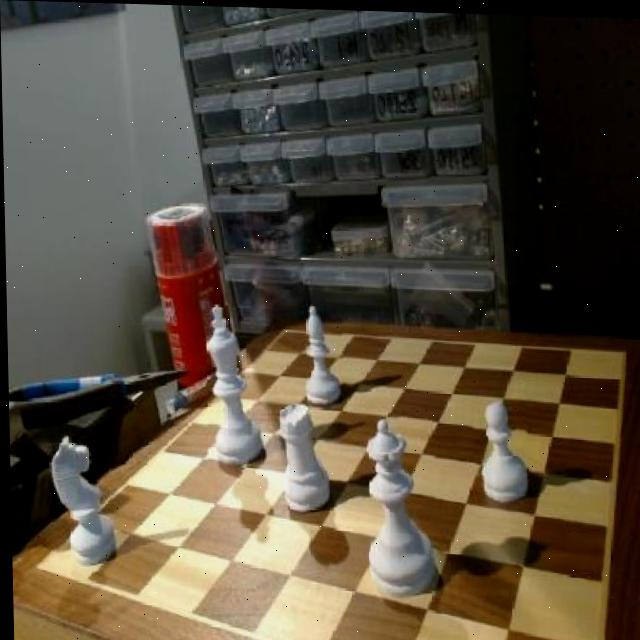black-rook: (299, 304, 341, 407)
white-bishop: (205, 304, 264, 471)
white-king: (49, 435, 113, 573)
white-knight: (471, 400, 529, 502)
white-pawn: (361, 413, 437, 600)
white-queen: (278, 402, 326, 515)
